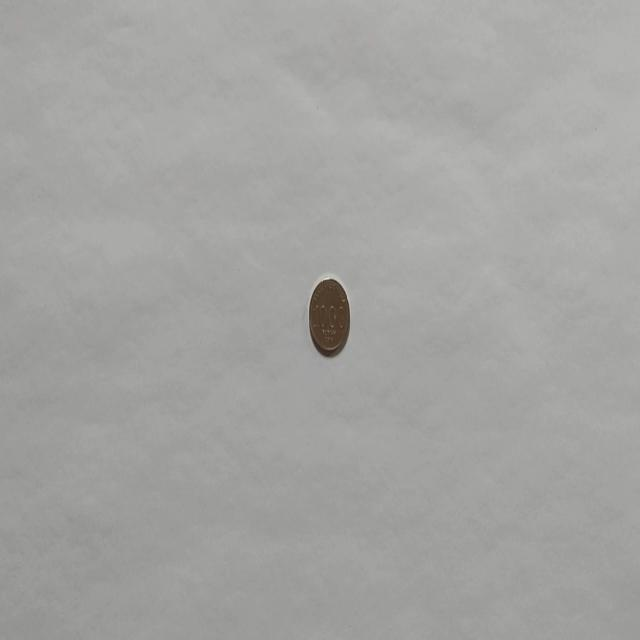seribu rupiah koin: (308, 274, 350, 358)
